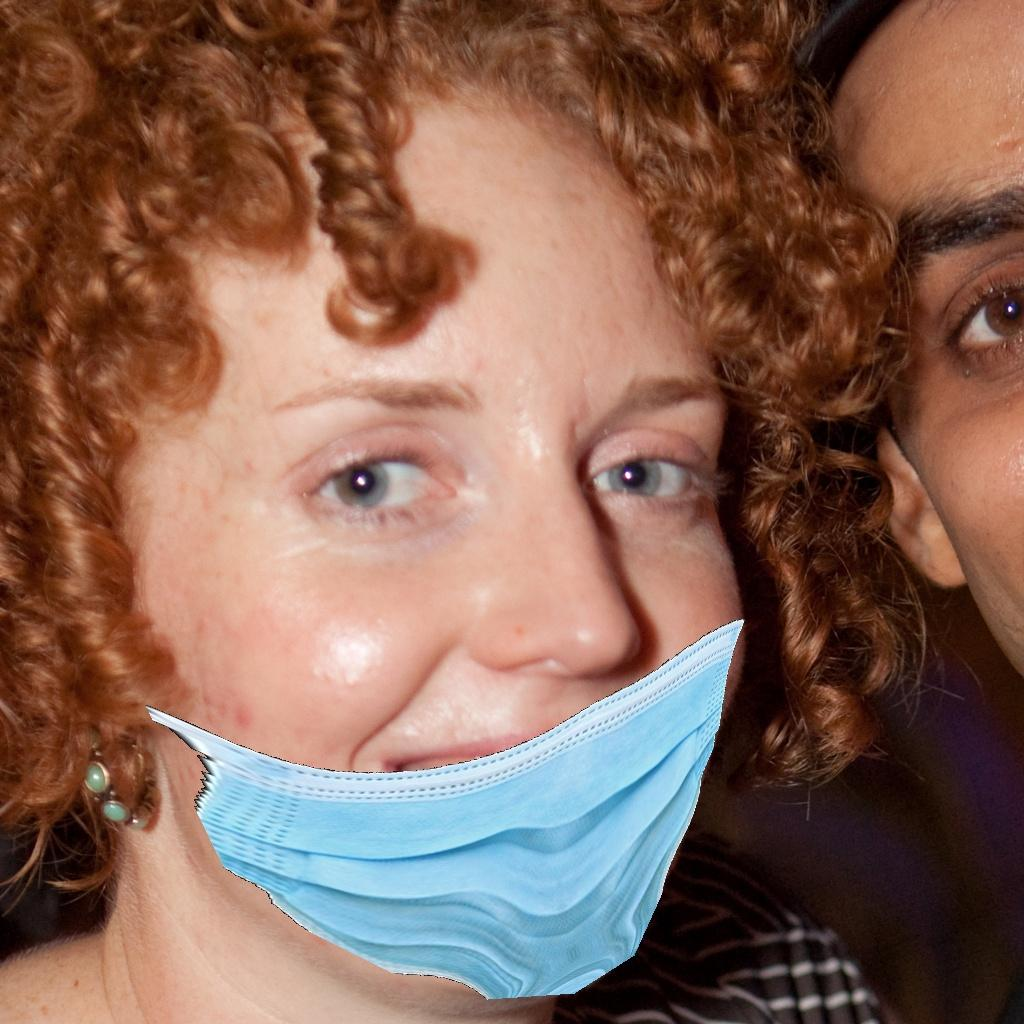Máscara Incorreta: (113, 161, 807, 996)
